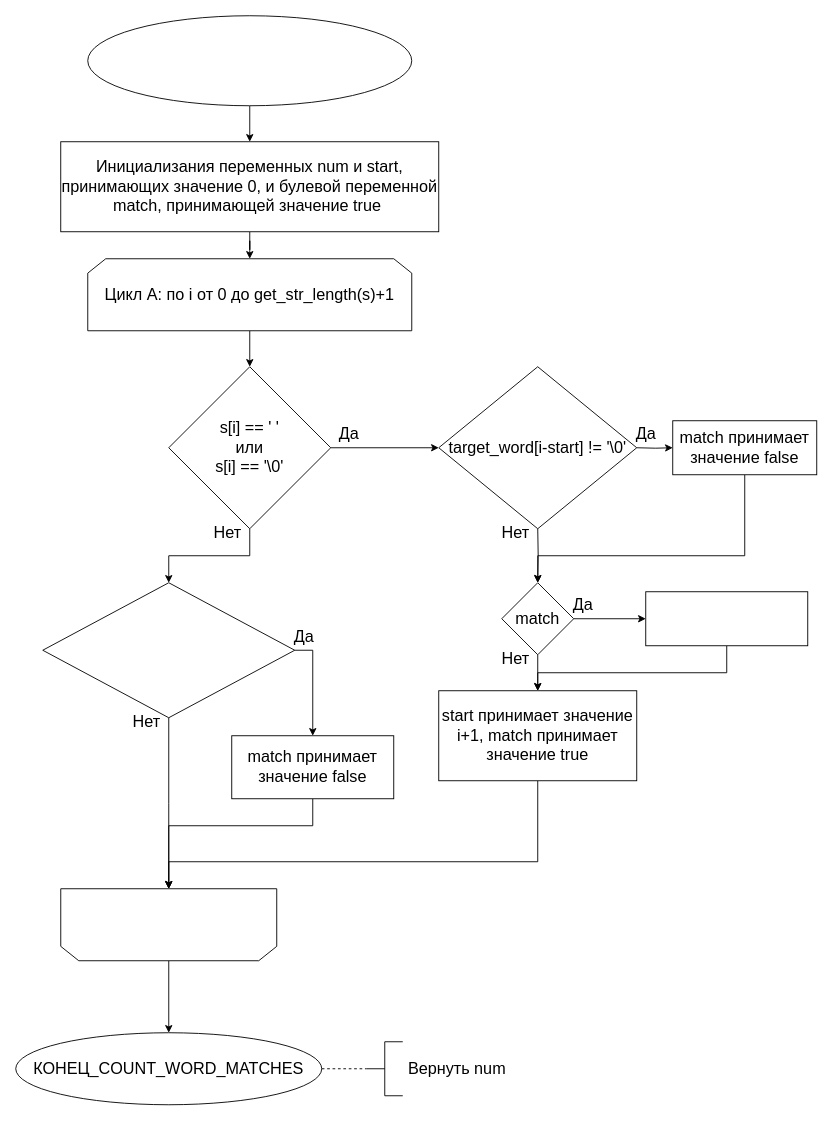
This 833x1121 diagram has some shape labels left out. Each missing label, with the centre of its shape:
match и s[i] != target_word[i-start]: the point at 168,650
НАЧАЛО _COUNT_WORD_MATCHES (target_word[], s[]): the point at 249,60
Увеличить num на 1: the point at 726,618
Цикл А: the point at 168,924
